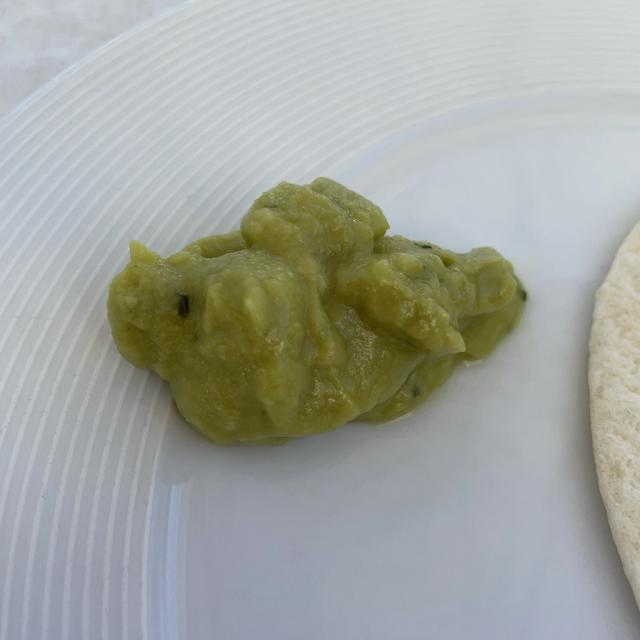guacamole: (110, 186, 514, 440)
